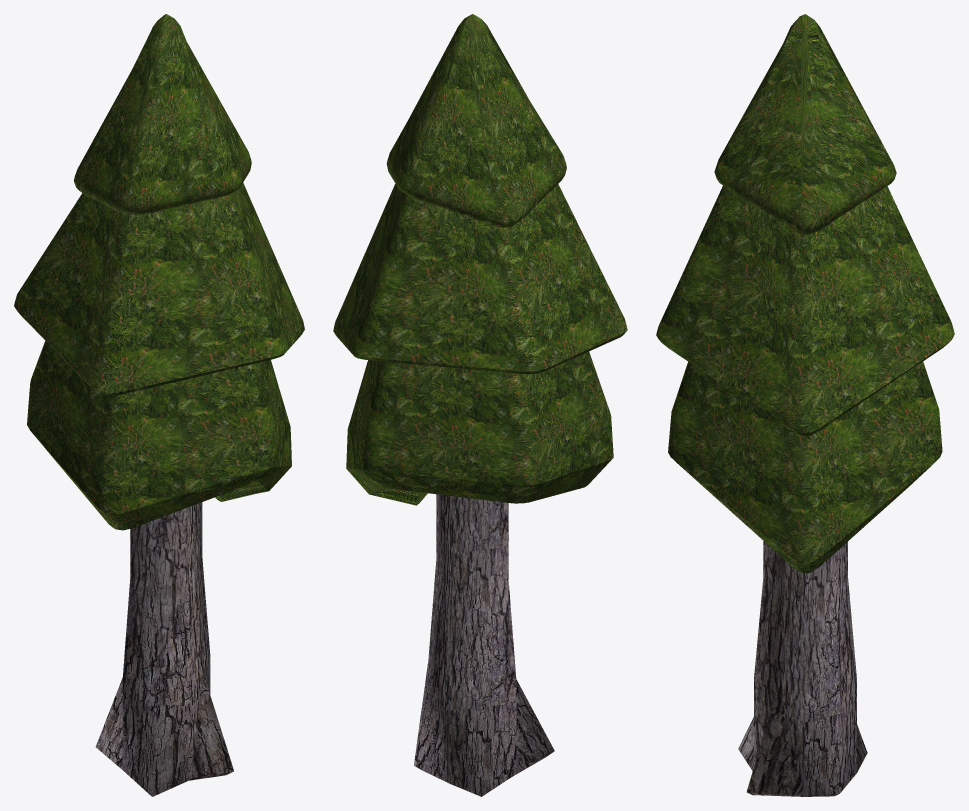
File: tree.FBX
The picture shows the model from 3 angles, left to right: view 1: azimuth 30°, elevation 25°; view 2: azimuth 150°, elevation 25°; view 3: azimuth 270°, elevation 25°; orthographic projection.
Parts seen in each view (by area): view 1: Cone001, Cylinder001; view 2: Cone001, Cylinder001; view 3: Cone001, Cylinder001.
Boxes of the visible parts, x1=… form: Cone001: x1=14, y1=14, x2=304, y2=530; Cylinder001: x1=95, y1=502, x2=233, y2=796; Cone001: x1=333, y1=14, x2=627, y2=505; Cylinder001: x1=414, y1=494, x2=554, y2=796; Cone001: x1=656, y1=14, x2=954, y2=572; Cylinder001: x1=738, y1=541, x2=867, y2=796.
Bounding box in the file's own units: 1.7 × 4.91 × 1.74.
Materials: 2 (2 with a texture image).
